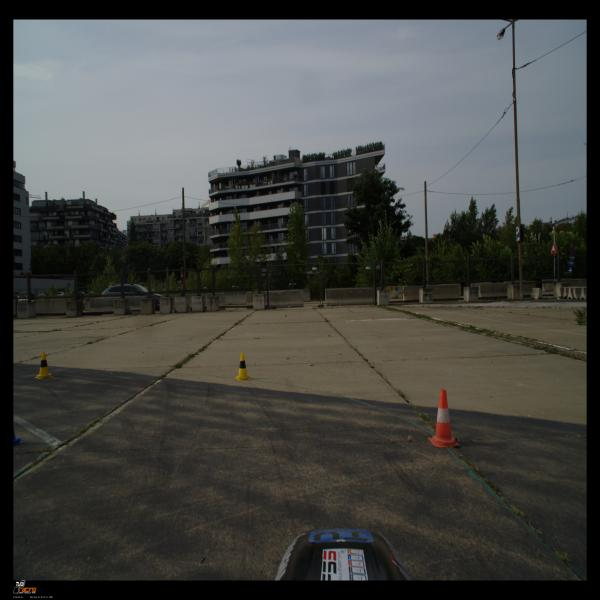blue_cone: (14, 422, 25, 449)
orange_cone: (428, 388, 459, 448)
yellow_cone: (35, 352, 53, 379), (236, 352, 251, 381)
